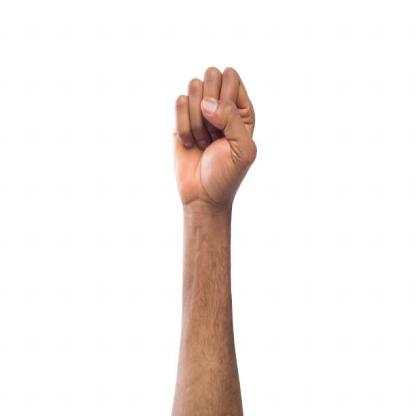fist: (159, 52, 288, 218)
